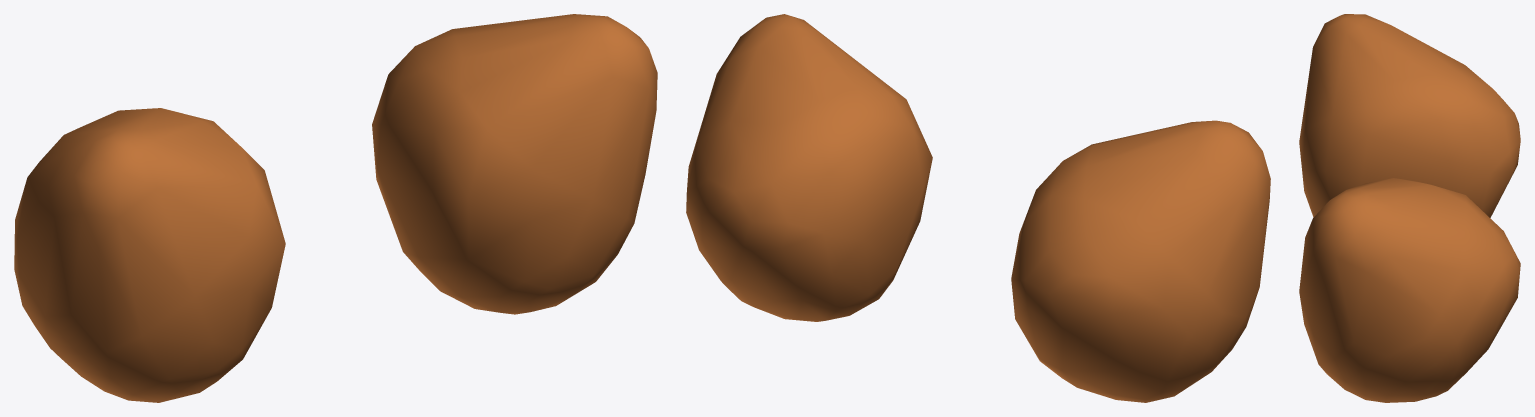
File: Mamillary_body_right.glb
The picture shows the model from 3 angles, left to right: view 1: azimuth 30°, elevation 25°; view 2: azimuth 150°, elevation 25°; view 3: azimuth 270°, elevation 25°; orthographic projection. The views are drawn at different scales.
Visible parts, largest first — view 1: Mamillary_body.r_grp1.070; view 2: Mamillary_body.r_grp1.070; view 3: Mamillary_body.r_grp1.070.
Part boxes in pixels (x1,y1,x2,y2): Mamillary_body.r_grp1.070: [14, 14, 657, 402]; Mamillary_body.r_grp1.070: [686, 14, 1270, 402]; Mamillary_body.r_grp1.070: [1299, 14, 1520, 402].
Bounding box in the file's own units: 0.0105 × 0.00487 × 0.00443.
